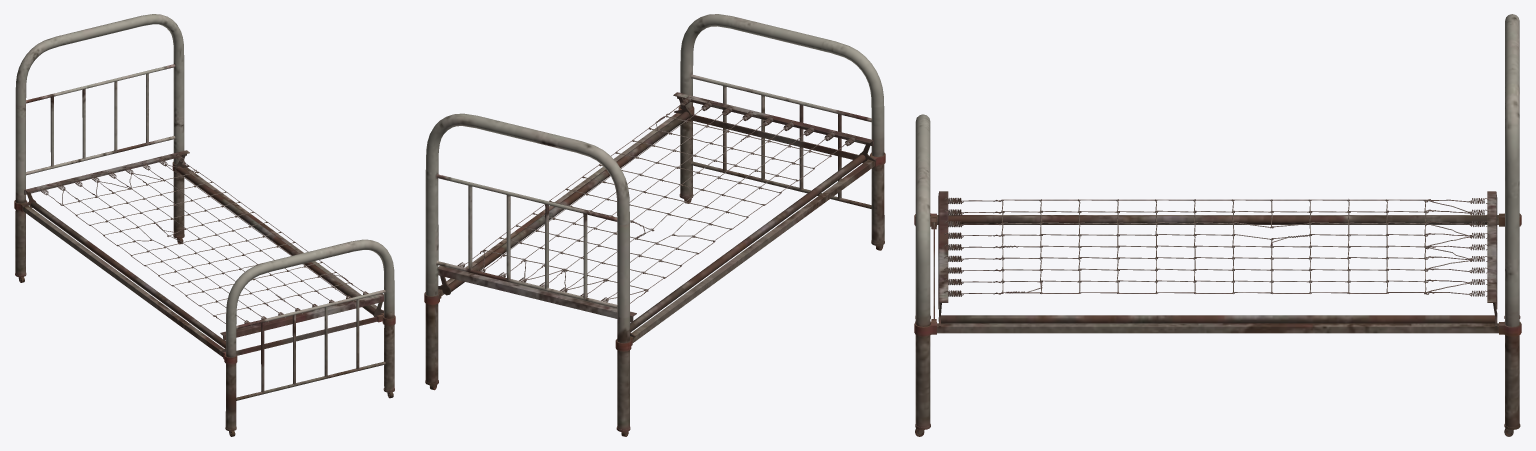
File: bed_frame.glb
The picture shows the model from 3 angles, left to right: view 1: azimuth 30°, elevation 25°; view 2: azimuth 150°, elevation 25°; view 3: azimuth 270°, elevation 25°; orthographic projection. The views are drawn at different scales.
Visible parts, largest first — view 1: old_bed_frame; view 2: old_bed_frame; view 3: old_bed_frame.
Boxes of the visible parts, x1,y1,x2,y2 form: old_bed_frame: (14,14,395,436); old_bed_frame: (424,14,885,436); old_bed_frame: (914,14,1521,436).
Bounding box in the file's own units: 0.9046 × 1.2 × 2.
1 material, 1 textured.
